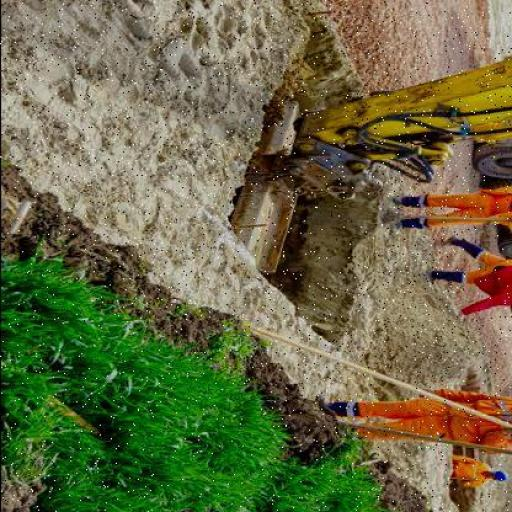safety_shoe: (314, 395, 336, 411), (437, 235, 460, 250), (388, 193, 405, 208)
